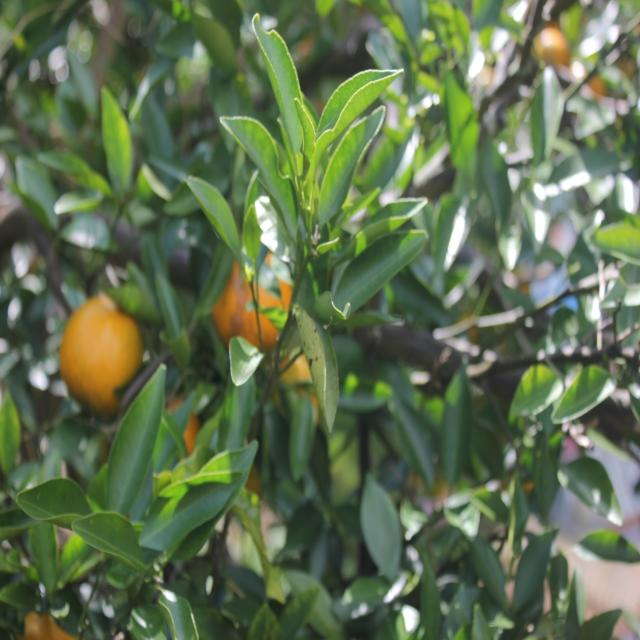melanose: (294, 301, 348, 435)
